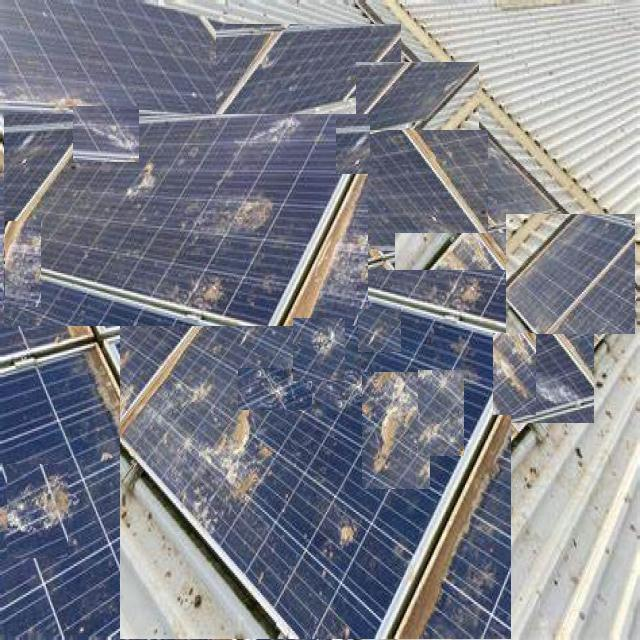Bird-drop: (505, 213, 637, 334), (496, 337, 593, 424)
